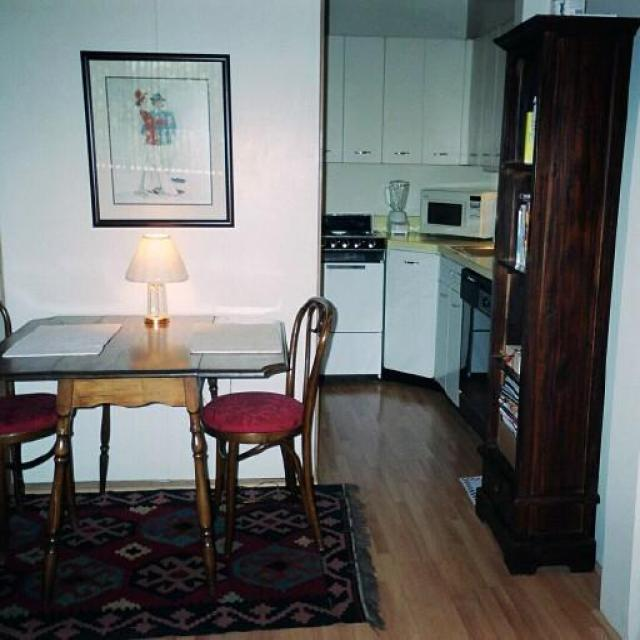chair: (199, 295, 336, 556), (0, 300, 79, 548)
cupboard: (474, 12, 638, 574)
lamps: (125, 232, 189, 325)
rugs: (0, 481, 385, 638)
table: (0, 312, 290, 602)
